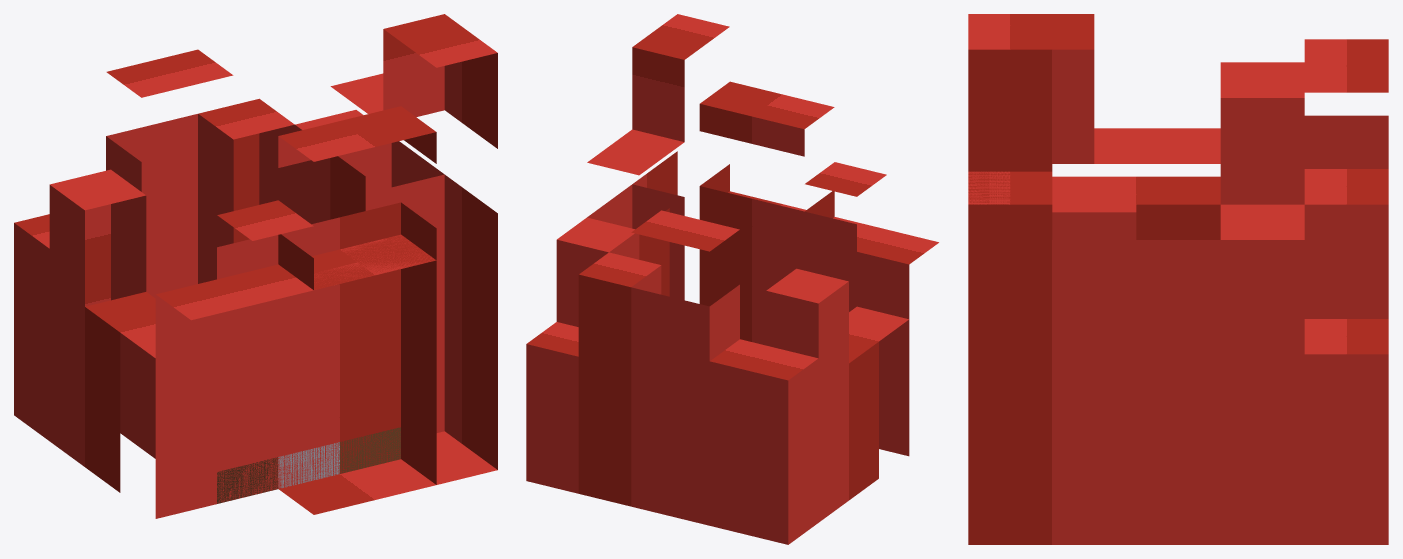
The model's file is Pottery3-named-nodes.gltf.
3 views of the same model, side by side, from view 1: azimuth 30°, elevation 25°; view 2: azimuth 150°, elevation 25°; view 3: azimuth 270°, elevation 25° (orthographic). The views are drawn at different scales.
Parts seen in each view (by area): view 1: cube (×12); view 2: cube (×12); view 3: cube (×11).
Part boxes in pixels (x1,y1,x2,y2): cube (×12): (14,14,497,518); cube (×12): (526,14,938,544); cube (×11): (968,14,1388,544).
Bounding box in the file's own units: 0.625 × 0.8125 × 0.625.
